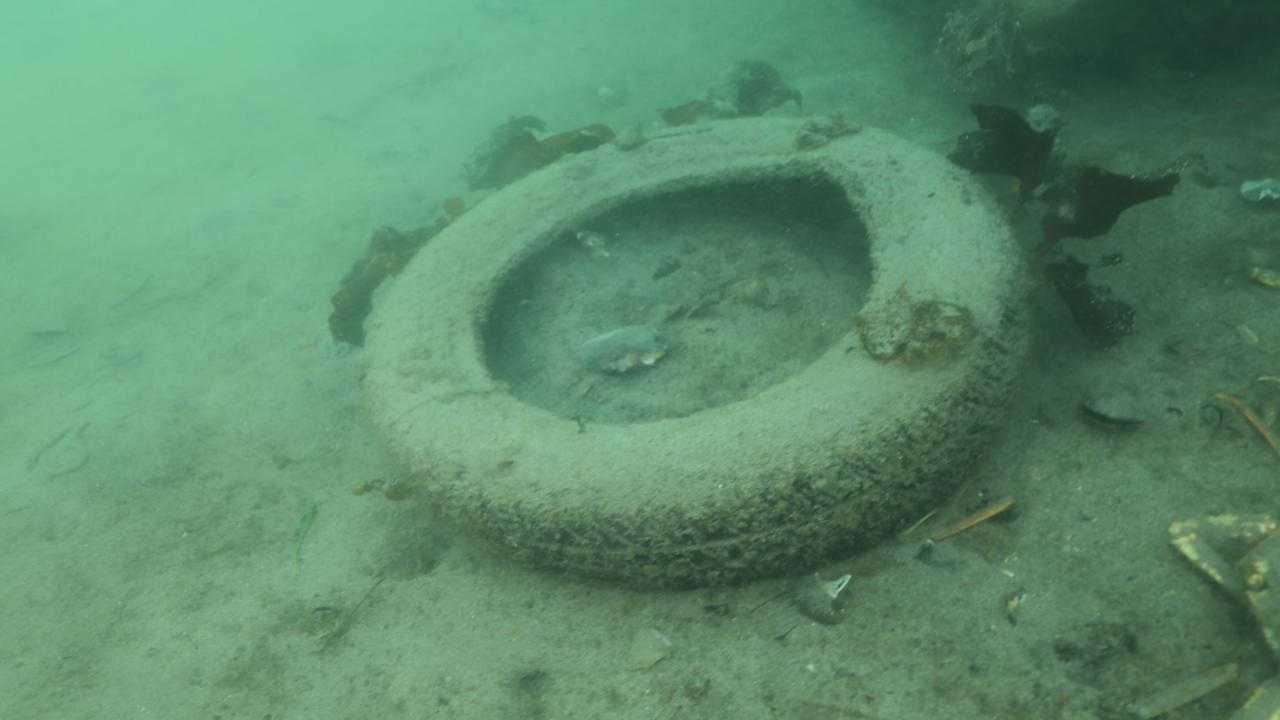tire: (358, 110, 1033, 589)
